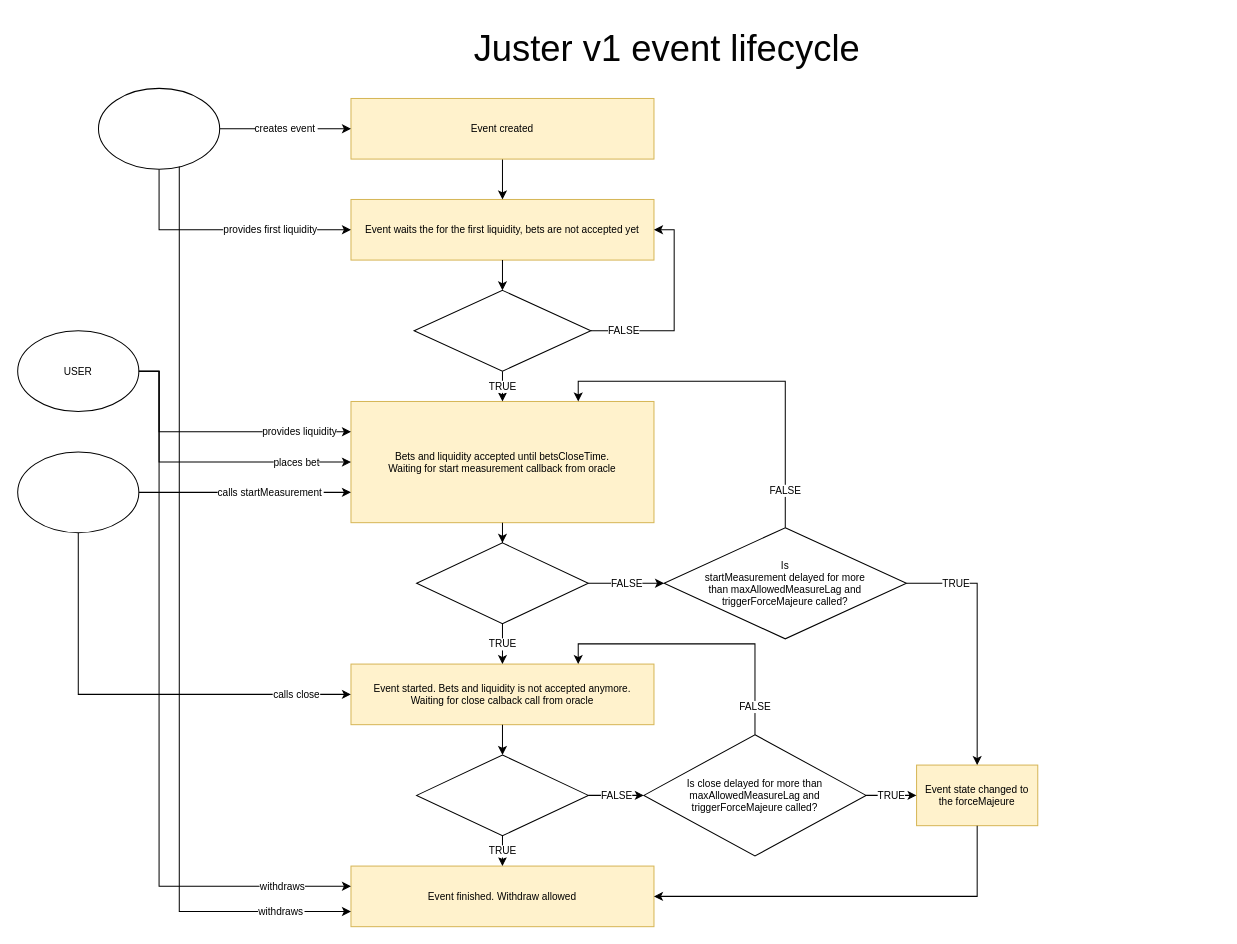
The diagram is 1237 pixels wide and 944 high, and some of its shapes have lost their labels. Each missing label, with the centre of its shape:
"EVENT MAKER" goes at pixel 158 128.
"Is closeCallback successfully called?" goes at pixel 502 795.
"Is startMeasurementCallback successfully called?" goes at pixel 502 583.
"Is there are any liquidity added?" goes at pixel 502 330.
"ORACLE" goes at pixel 78 492.
